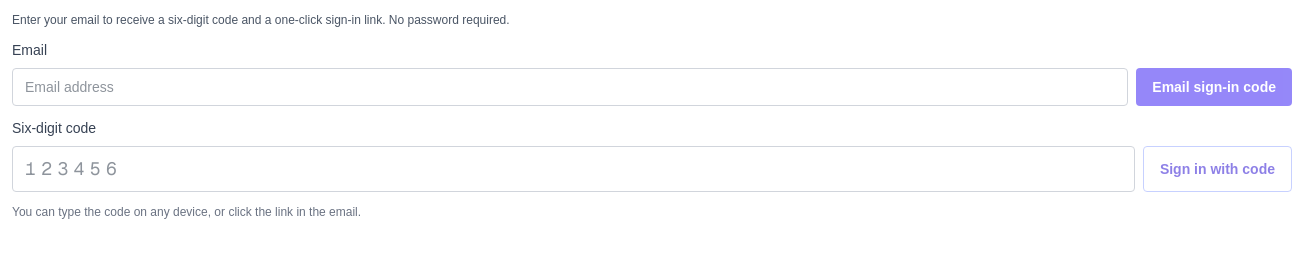
Scenario: MagicCodeSignInForm › requests an email containing both a code and one-click link
The width and height of the screenshot is (1304, 264).
In the field labelled "Email": (570, 87) [12, 68, 1128, 106], type "singer@example.com"
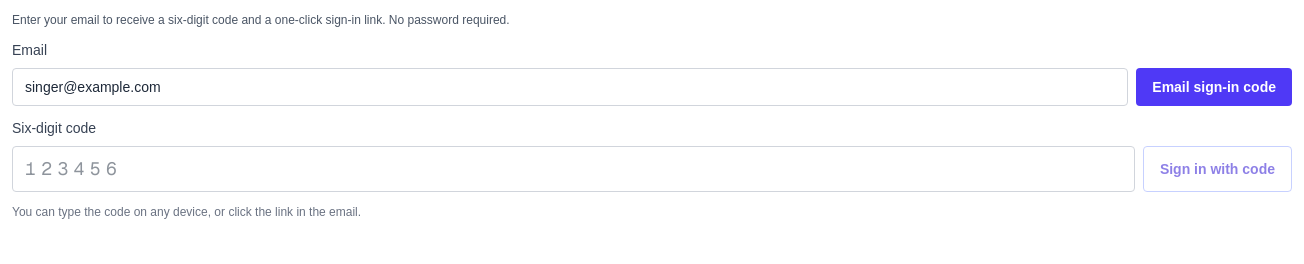
Click the button "Email sign-in code": click(1214, 87) [1136, 68, 1292, 106]
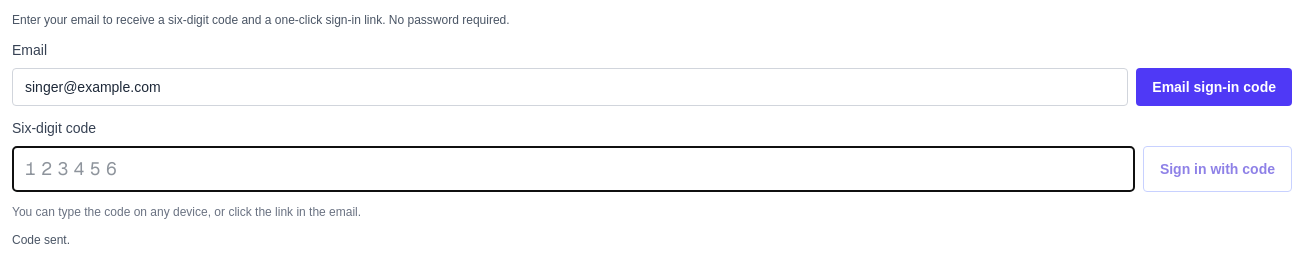
Check: the text "Code sent." is shown, box [12, 233, 70, 247]
